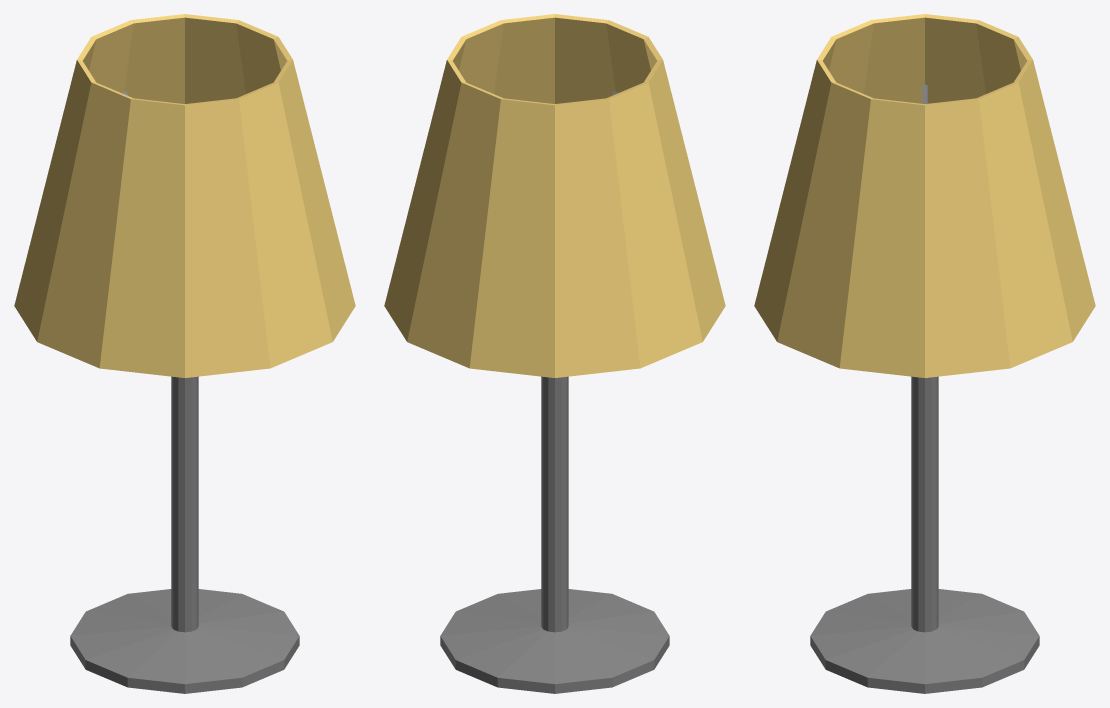
Rendered from lamp.glb.
The picture shows the model from 3 angles, left to right: view 1: azimuth 30°, elevation 25°; view 2: azimuth 150°, elevation 25°; view 3: azimuth 270°, elevation 25°; orthographic projection.
Parts seen in each view (by area): view 1: Lamp; view 2: Lamp; view 3: Lamp.
Boxes of the visible parts, x1,y1,x2,y2 form: Lamp: (14, 14, 355, 693); Lamp: (384, 14, 725, 693); Lamp: (754, 14, 1095, 693).
Bounding box in the file's own units: 93.47 × 177 × 93.47.
1 material, 1 textured.
